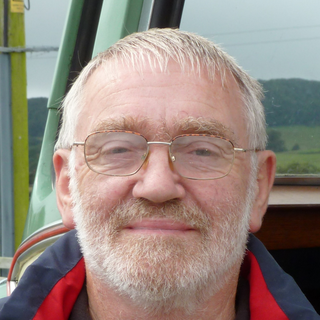eye: (183, 144, 225, 161), (97, 140, 134, 159)
